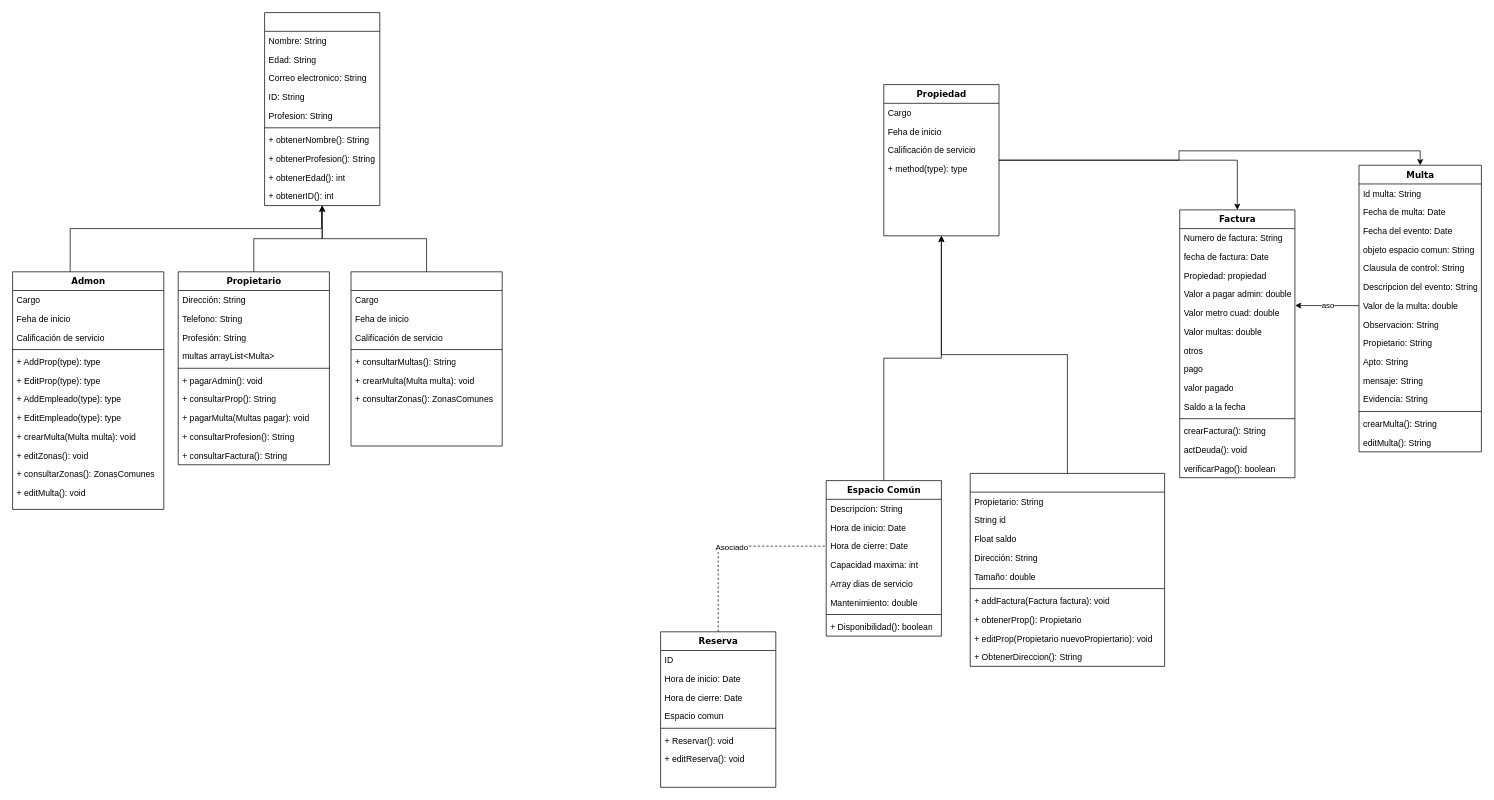
Some shapes in this 1494 by 800 pixel diagram are drawn without their labels. The box of each missing label's shape, as (x1, y1, x2, y2) in pixels:
Casa: (969, 473, 1165, 666)
Empleado: (350, 271, 502, 446)
Persona: (264, 12, 380, 206)
